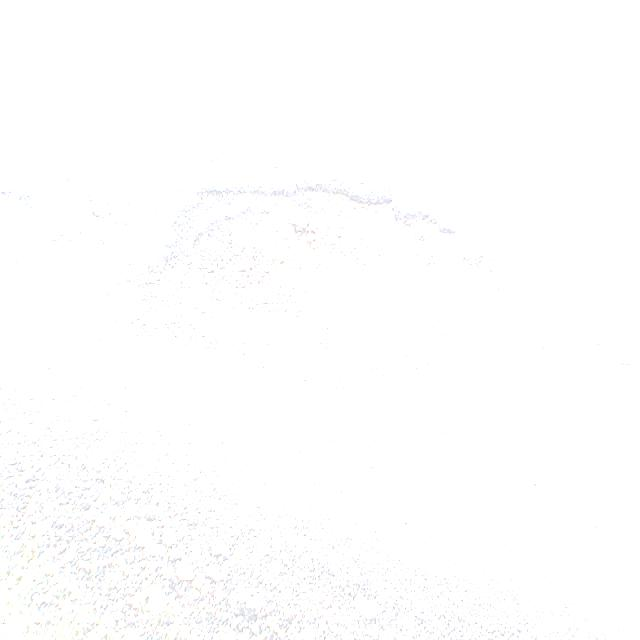Pothole: (115, 150, 540, 368)
